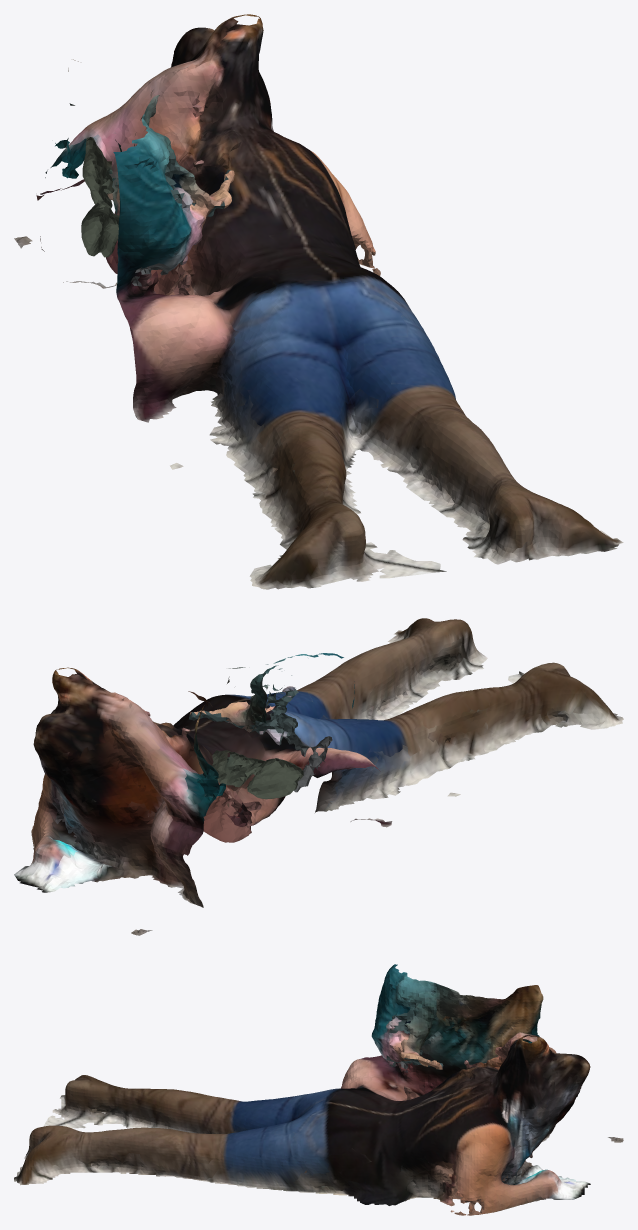
The picture shows the model from 3 angles, top to bottom: view 1: azimuth 30°, elevation 25°; view 2: azimuth 150°, elevation 25°; view 3: azimuth 270°, elevation 25°; orthographic projection. The views are drawn at different scales.
Size of the model in its own units: 0.9367 by 0.4945 by 1.81.
Materials: 1 (1 with a texture image).
